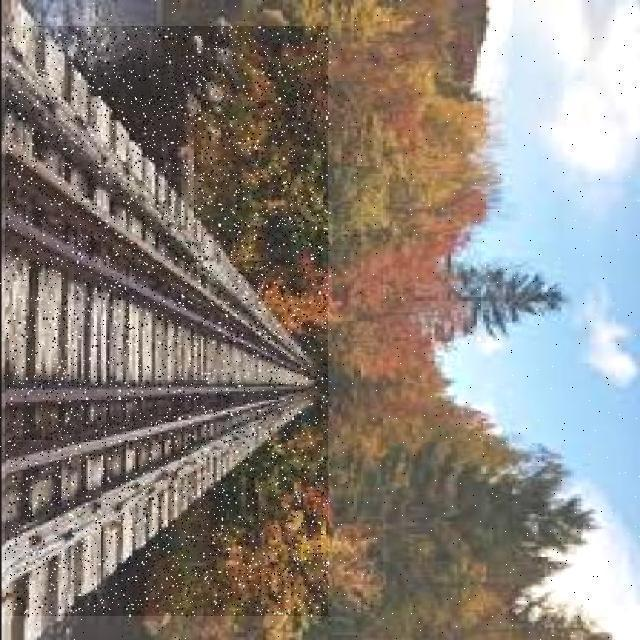rail: (6, 28, 329, 617)
